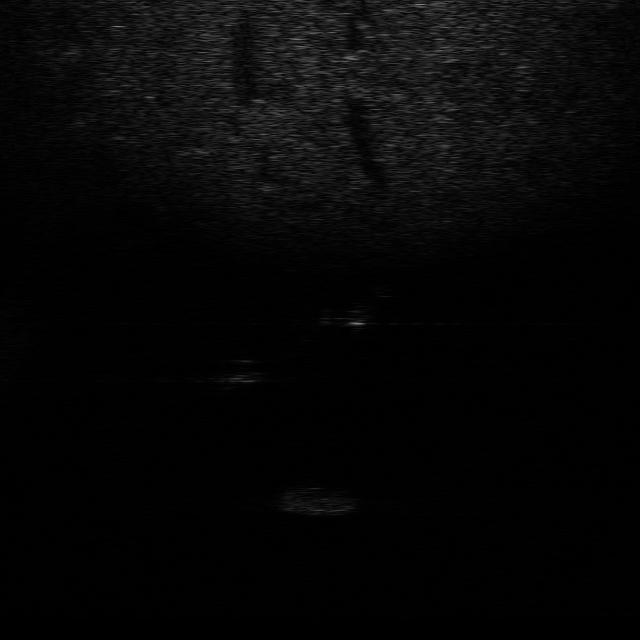ball: (214, 355, 270, 390)
circle cage: (265, 476, 363, 520)
human body: (302, 284, 392, 346)
